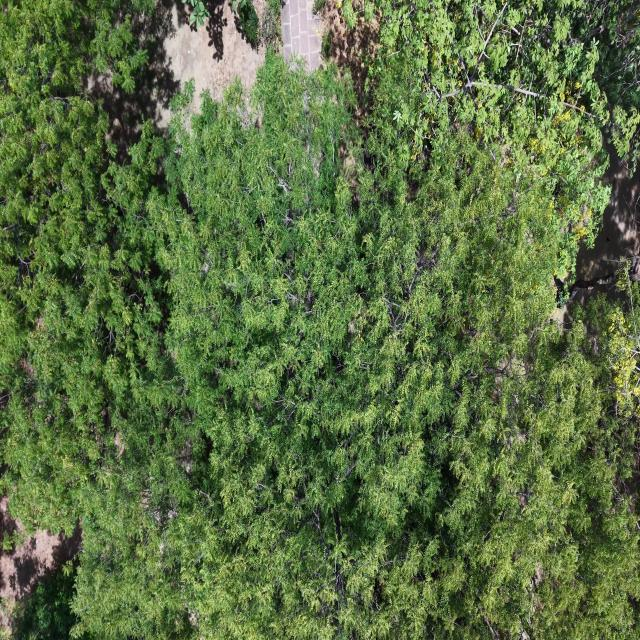DRY_AREA: (89, 0, 265, 162), (89, 0, 265, 161), (89, 0, 264, 155), (90, 0, 264, 152), (93, 0, 264, 141), (553, 145, 639, 326), (88, 0, 184, 162), (555, 146, 639, 320), (281, 0, 379, 124), (282, 0, 379, 121), (282, 0, 378, 120), (282, 0, 378, 117), (570, 147, 639, 306), (165, 2, 265, 108), (281, 0, 377, 97), (0, 527, 81, 636), (0, 527, 81, 631), (577, 148, 639, 279), (316, 0, 379, 126), (581, 150, 639, 277), (321, 0, 379, 123), (281, 0, 322, 70)
PATHWAYS: (282, 0, 320, 70)
VEGETATION_TREE: (0, 2, 639, 639), (77, 59, 637, 637), (0, 0, 162, 531), (358, 0, 639, 279), (13, 563, 76, 639), (231, 0, 278, 46), (232, 0, 259, 46), (259, 0, 281, 47), (189, 0, 210, 29)
